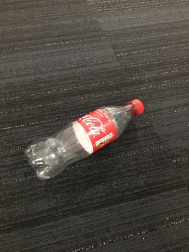bottle_red: (14, 86, 150, 188)
